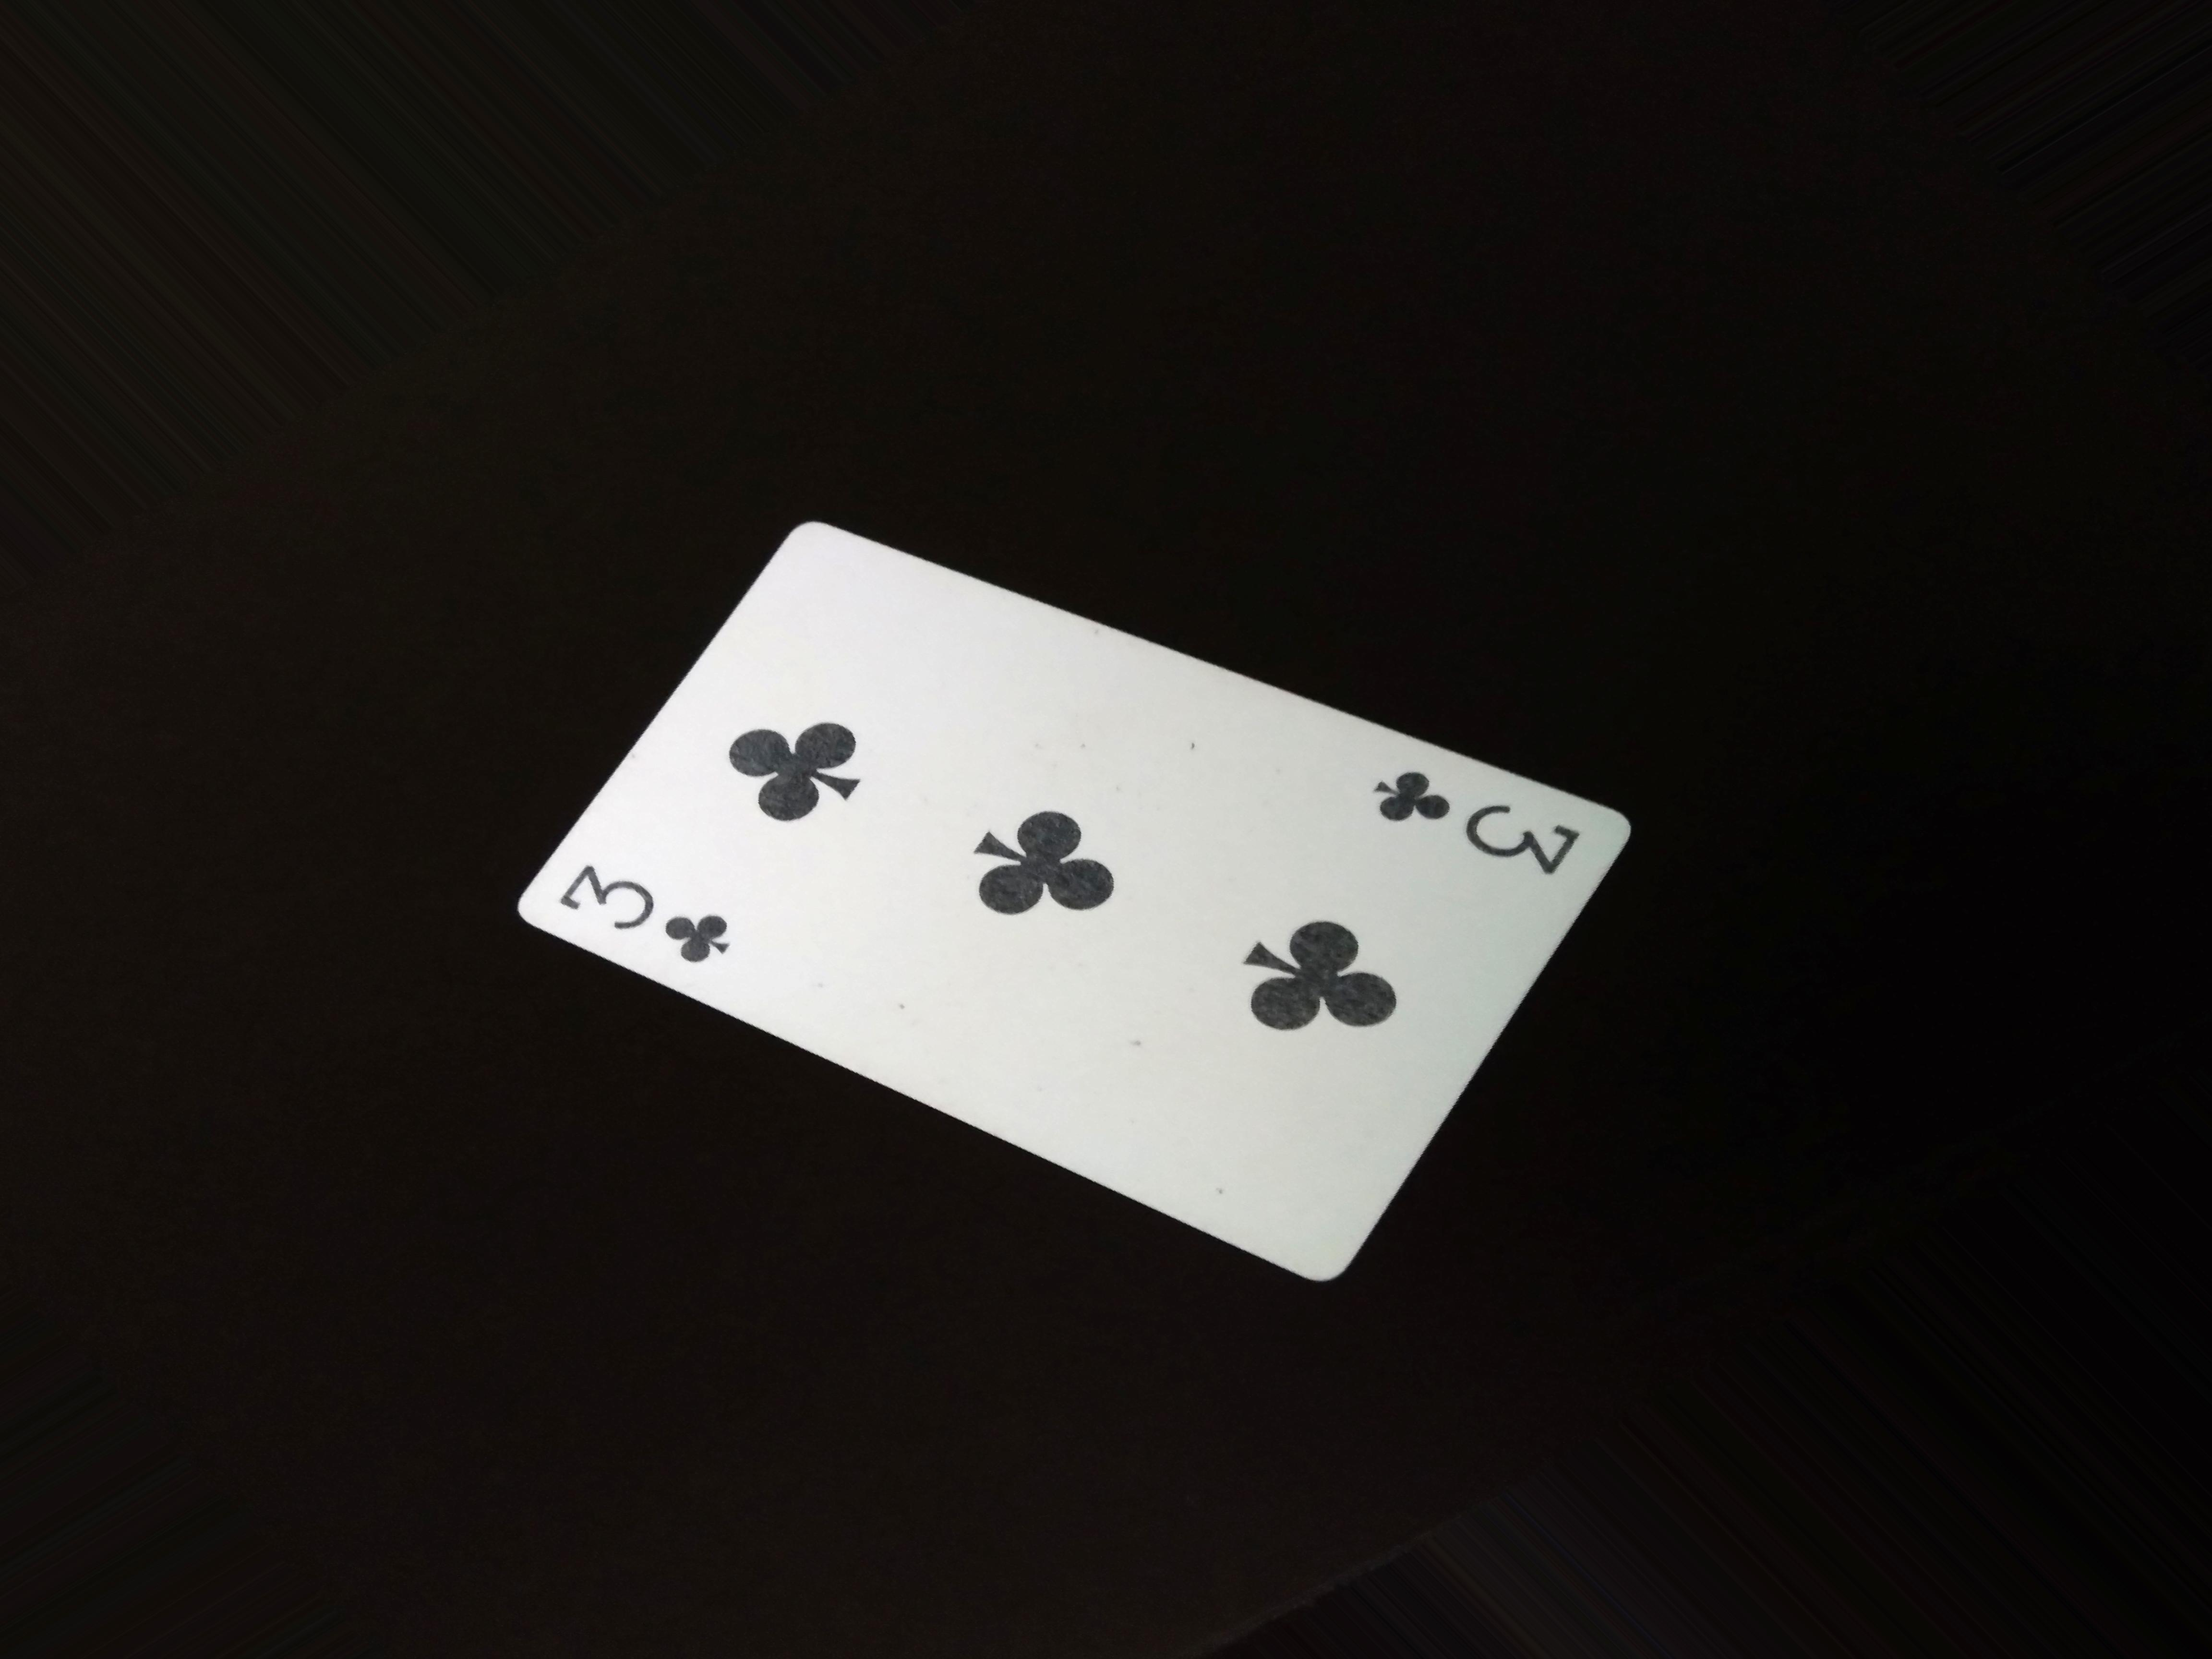3C: (1343, 751, 1588, 894)
